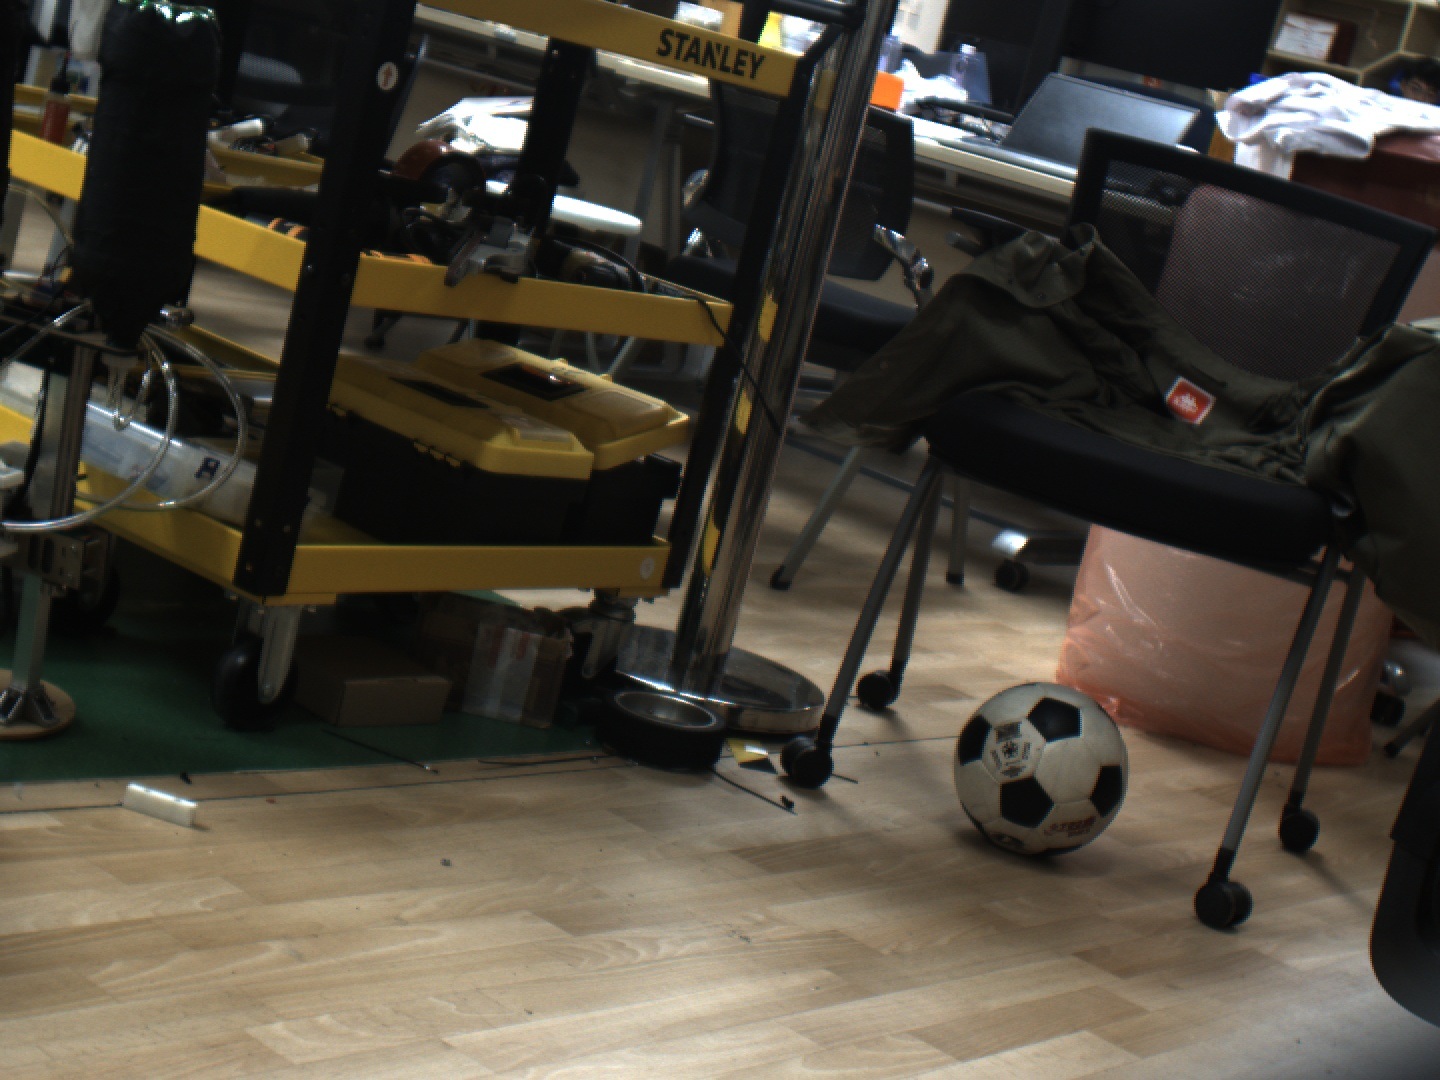ball: (952, 680, 1130, 866)
